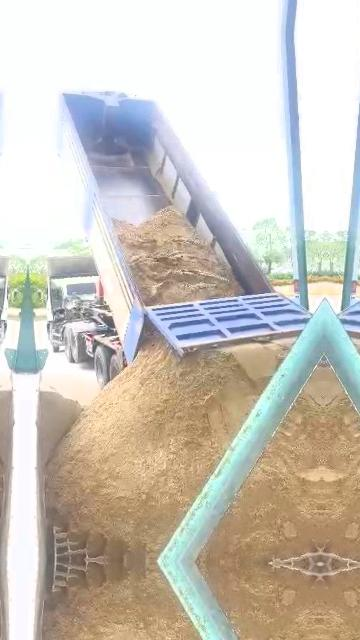sand: (47, 332, 285, 561), (200, 395, 323, 563), (114, 208, 243, 304), (39, 382, 81, 465), (305, 365, 324, 408)
